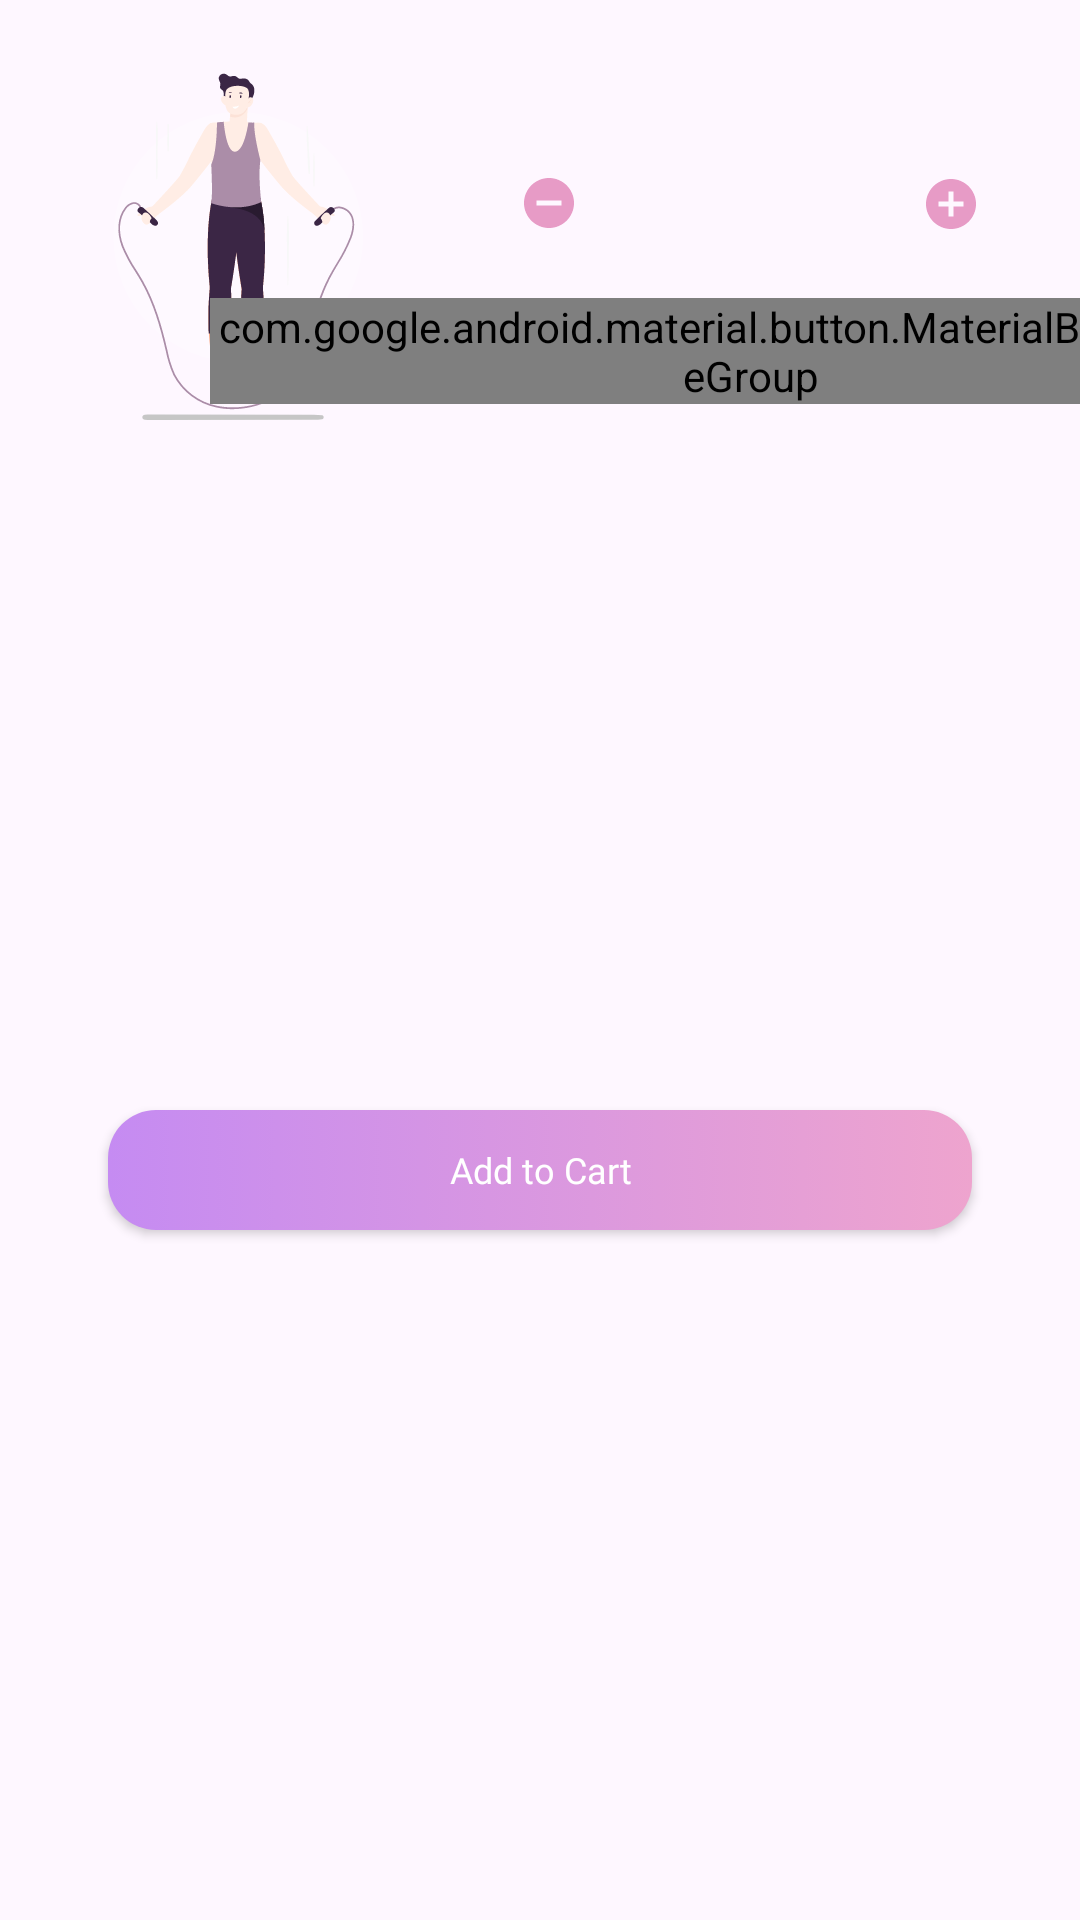

Where icons sit on this 1080 × 1920 app screen, as (x1, y1, x2, y2):
jumping rope: (118, 73, 420, 420)
